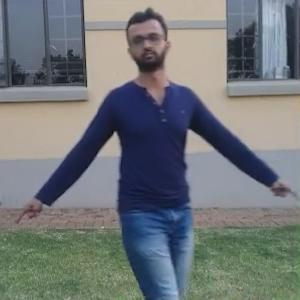land: (19, 8, 280, 297)
